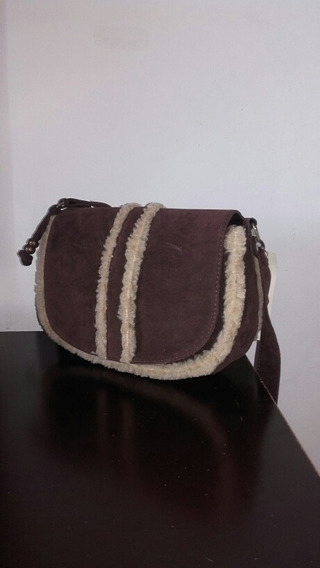cartera: (18, 194, 274, 385)
